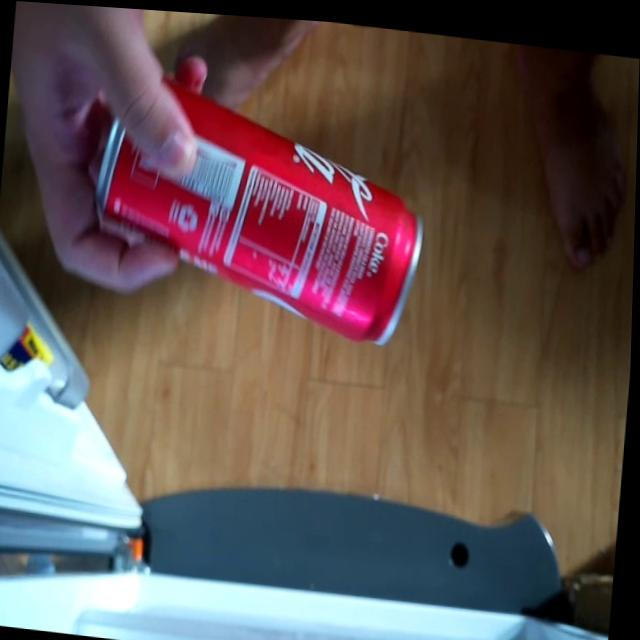coke: (80, 52, 445, 347)
